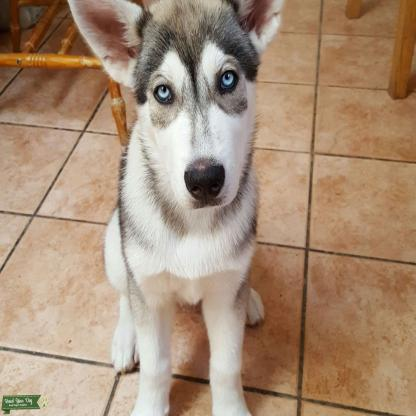dog: (61, 3, 283, 416)
